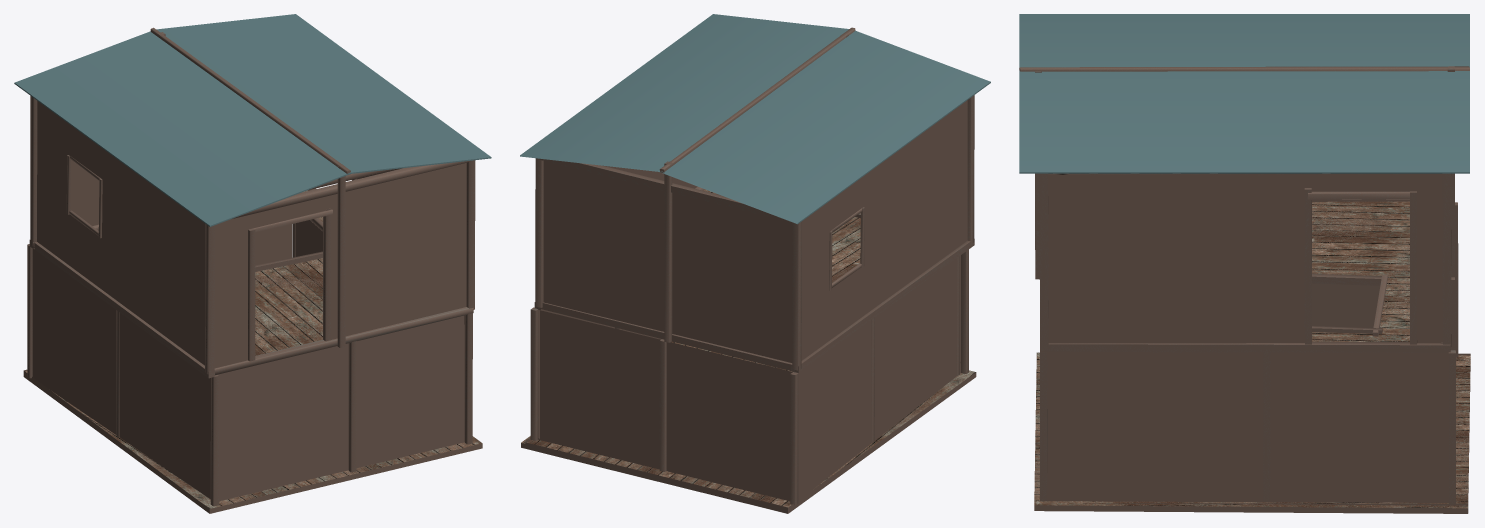
The model's file is shack.fbx.
3 views of the same model, side by side, from view 1: azimuth 30°, elevation 25°; view 2: azimuth 150°, elevation 25°; view 3: azimuth 270°, elevation 25° (orthographic). The views are drawn at different scales.
Visible parts, largest first — view 1: Group1; view 2: Group1; view 3: Group1.
Boxes of the visible parts, x1,y1,x2,y2 form: Group1: (14, 14, 491, 513); Group1: (520, 14, 990, 513); Group1: (1019, 14, 1470, 513).
Size of the model in its own units: 185 by 200 by 223.
